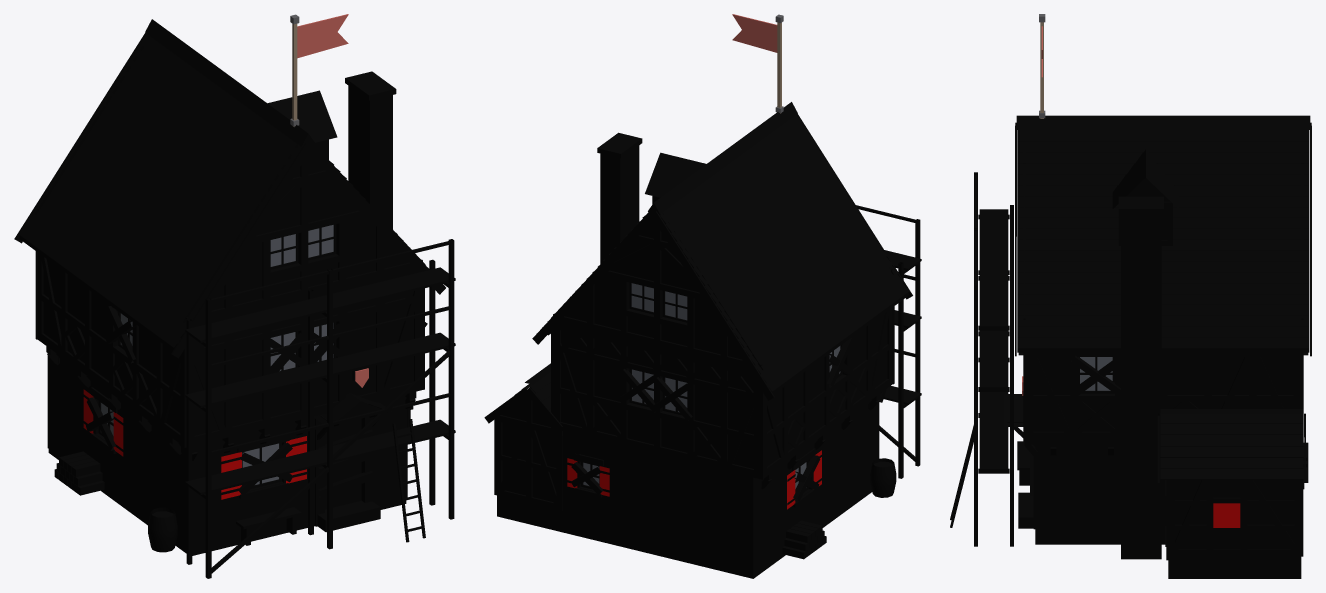
The model's file is wohnhaus_mensch_s2_g2.glb.
3 views of the same model, side by side, from view 1: azimuth 30°, elevation 25°; view 2: azimuth 150°, elevation 25°; view 3: azimuth 270°, elevation 25° (orthographic). The views are drawn at different scales.
Parts seen in each view (by area): view 1: Haus, Dach, Geruest, Leerstand, Scheiben, Fahne; view 2: Haus, Dach, Geruest, Leerstand, Scheiben, Fahne; view 3: Dach, Haus, Geruest, Leerstand, Scheiben, Fahne.
Part boxes in pixels (x1,y1,x2,y2): Haus: [35, 36, 425, 555]; Dach: [14, 19, 445, 358]; Geruest: [185, 239, 455, 578]; Leerstand: [86, 306, 373, 497]; Scheiben: [101, 225, 333, 484]; Fahne: [290, 14, 348, 126]; Haus: [494, 117, 896, 578]; Dach: [484, 102, 912, 430]; Geruest: [856, 205, 921, 478]; Leerstand: [571, 337, 853, 501]; Scheiben: [583, 283, 840, 488]; Fahne: [732, 14, 783, 113]; Dach: [1015, 115, 1311, 482]; Haus: [1004, 131, 1304, 578]; Geruest: [950, 172, 1013, 546]; Leerstand: [1018, 352, 1308, 495]; Scheiben: [1080, 357, 1112, 390]; Fahne: [1039, 14, 1045, 118].
Bounding box in the file's own units: 7.99 × 11.75 × 8.03.
